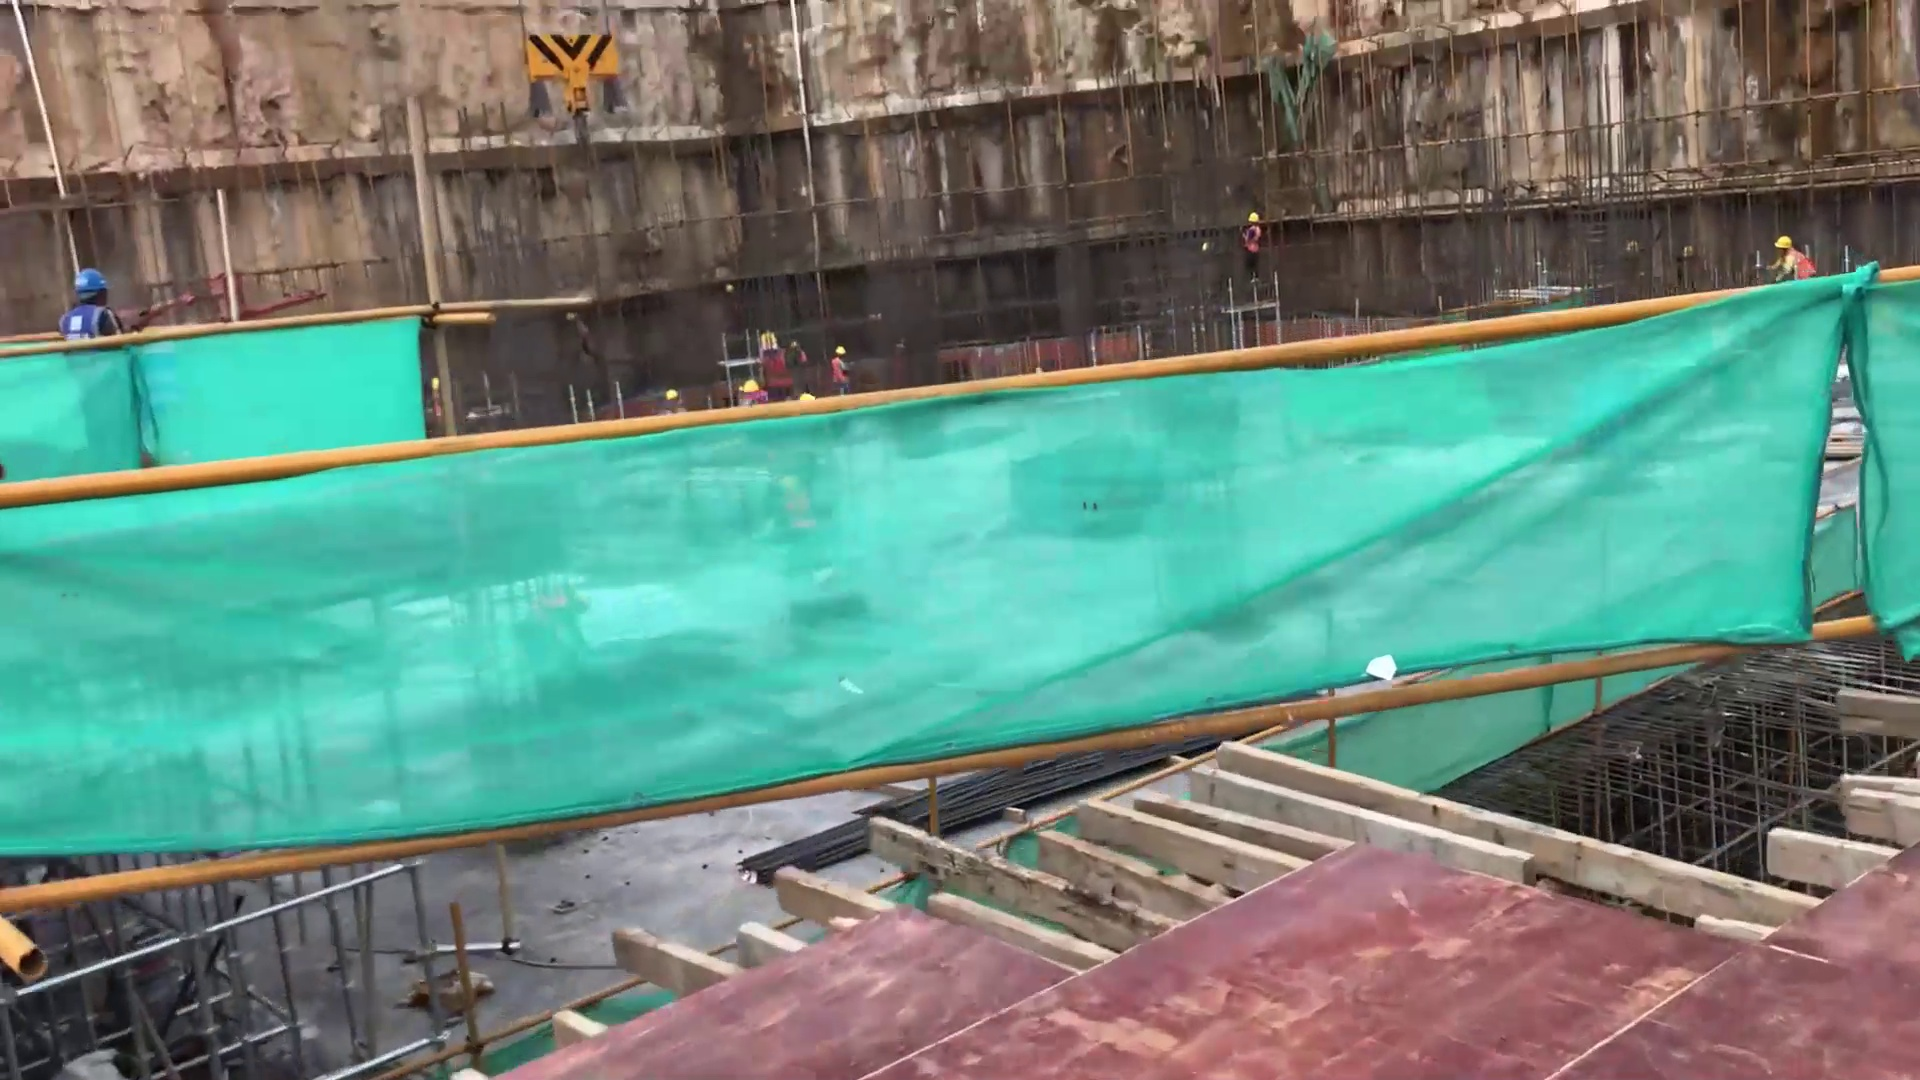helmet: (72, 270, 109, 292), (1773, 236, 1794, 250), (743, 380, 762, 393), (1247, 212, 1261, 225), (665, 389, 678, 401), (835, 346, 848, 356)
person: (51, 267, 126, 342), (759, 327, 810, 401), (1234, 208, 1274, 292), (1760, 234, 1828, 282), (825, 333, 855, 396)
vest: (54, 300, 114, 334)
